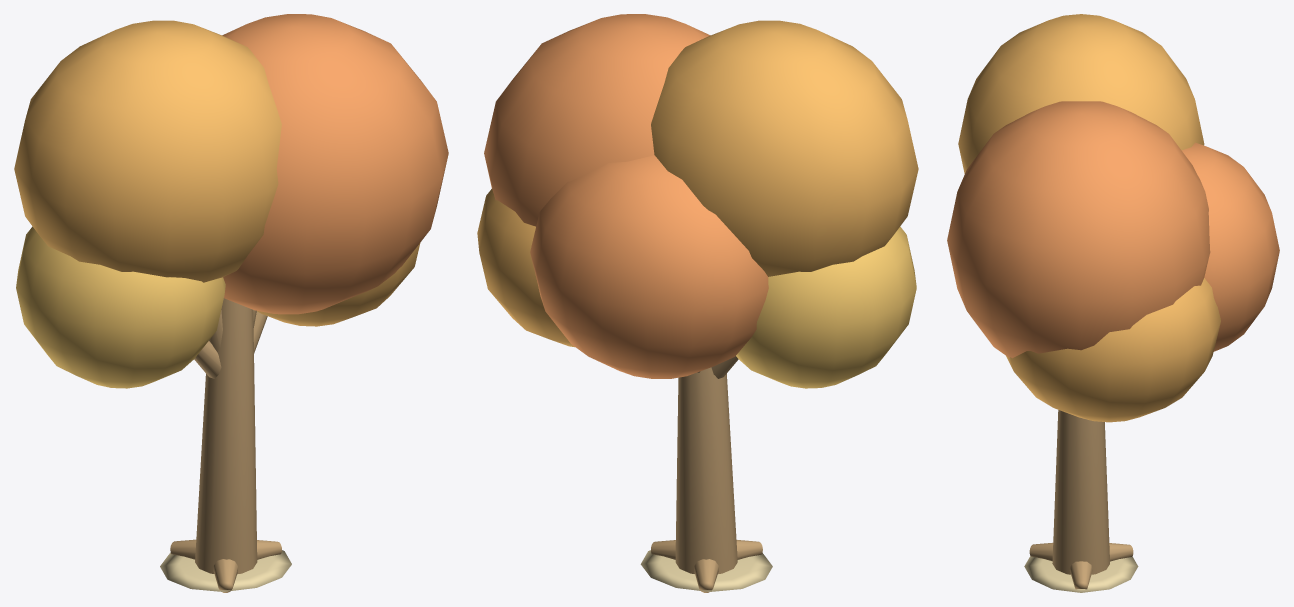
The model's file is tree_v2_autumn.glb.
The picture shows the model from 3 angles, left to right: view 1: azimuth 30°, elevation 25°; view 2: azimuth 150°, elevation 25°; view 3: azimuth 270°, elevation 25°; orthographic projection. The views are drawn at different scales.
Bounding box in the file's own units: 3.84 × 5.05 × 2.97.
